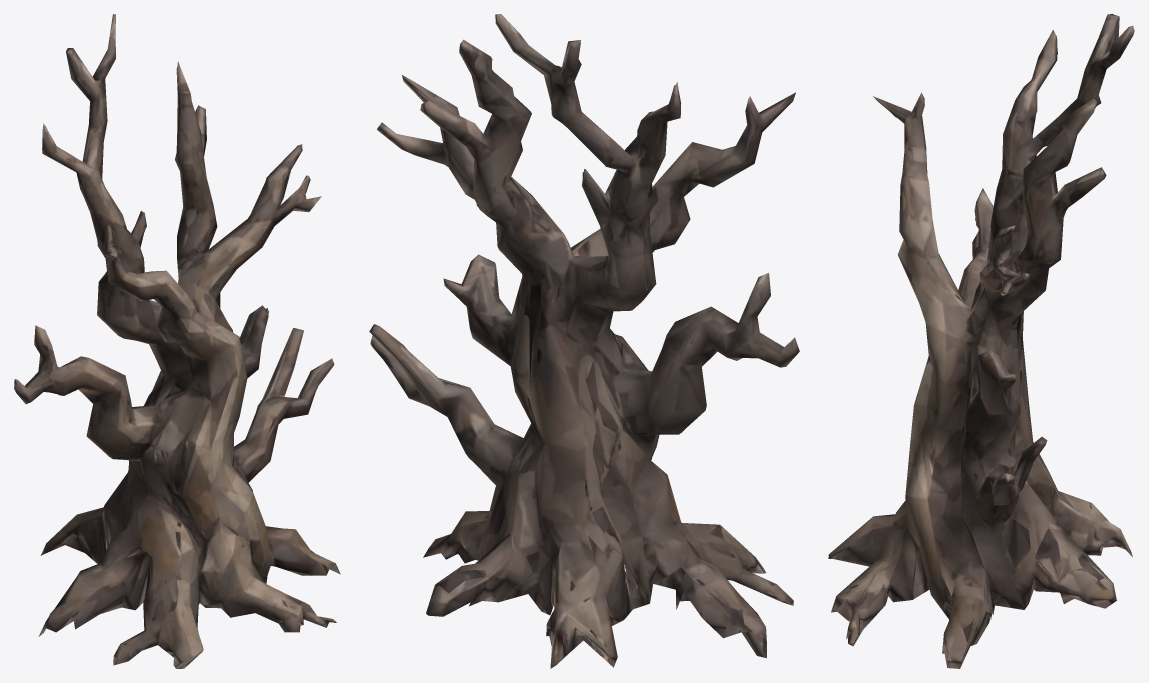
The model's file is tree_volcano_ash.glb.
3 views of the same model, side by side, from view 1: azimuth 30°, elevation 25°; view 2: azimuth 150°, elevation 25°; view 3: azimuth 270°, elevation 25° (orthographic). The views are drawn at different scales.
Visible parts, largest first — view 1: BakeLow; view 2: BakeLow; view 3: BakeLow.
Part boxes in pixels (x1,y1,x2,y2): BakeLow: (14,14,340,668); BakeLow: (369,14,799,668); BakeLow: (828,14,1134,668).
Size of the model in its own units: 0.551 by 0.8502 by 0.4115.
1 material, 1 textured.
